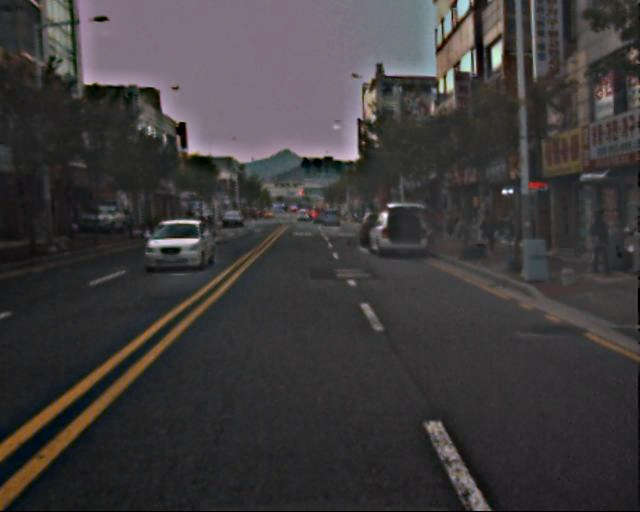person: (583, 209, 615, 279), (619, 223, 640, 284), (482, 212, 500, 257), (431, 207, 445, 242), (444, 210, 457, 241)
